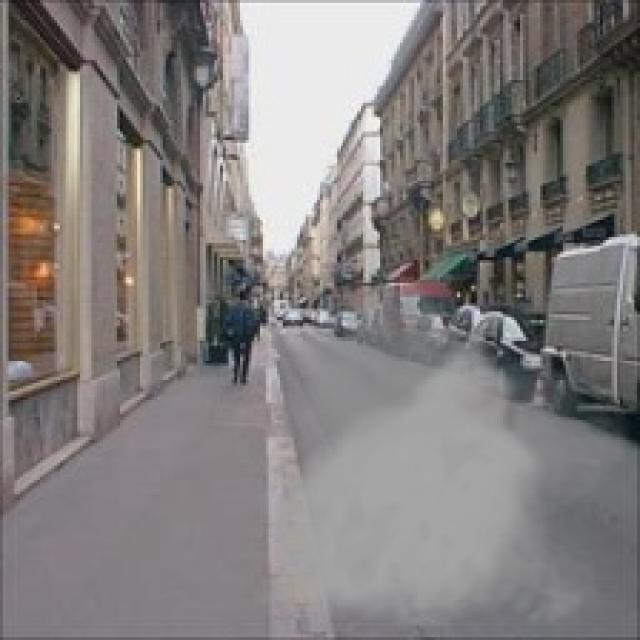smoke: (254, 280, 629, 637)
